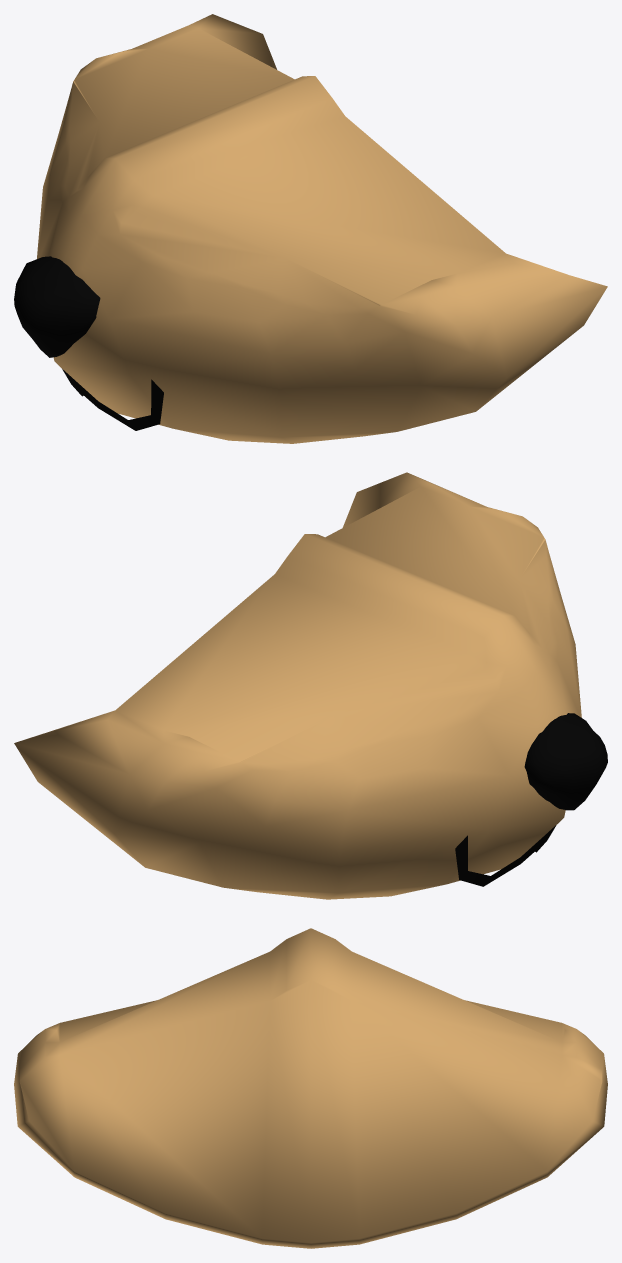
File: Honey Mouth.obj
3 views of the same model, one above another, from view 1: azimuth 30°, elevation 25°; view 2: azimuth 150°, elevation 25°; view 3: azimuth 270°, elevation 25° (orthographic). The views are drawn at different scales.
Visible parts, largest first — view 1: Mouth; view 2: Mouth; view 3: Mouth.
Boxes of the visible parts, <box> form: Mouth: <box>14,14,607,443</box>; Mouth: <box>14,472,607,899</box>; Mouth: <box>14,928,607,1248</box>.
Size of the model in its own units: 1.15 by 0.7961 by 1.64.
